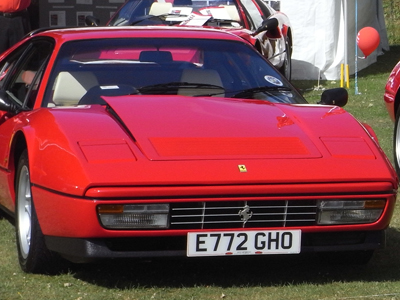licencePlate: (187, 230, 303, 258)
